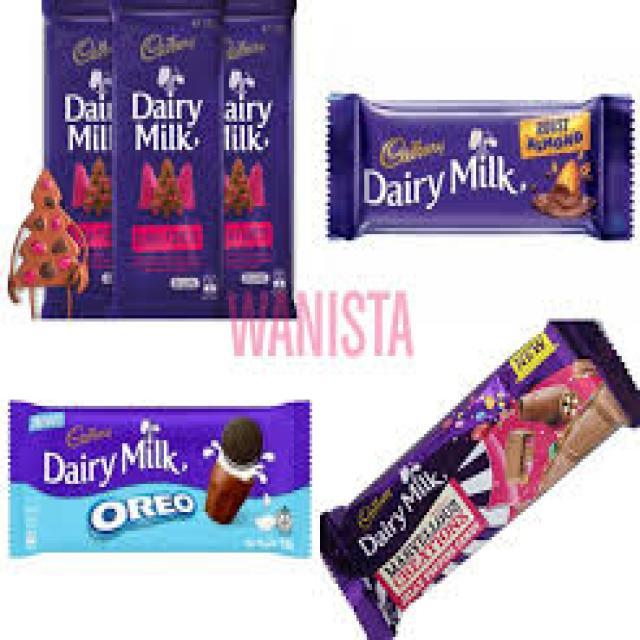cadbury_chocolate: (332, 320, 637, 633), (325, 100, 617, 262), (8, 405, 302, 560), (112, 8, 223, 312), (223, 10, 307, 320), (38, 10, 108, 318)
